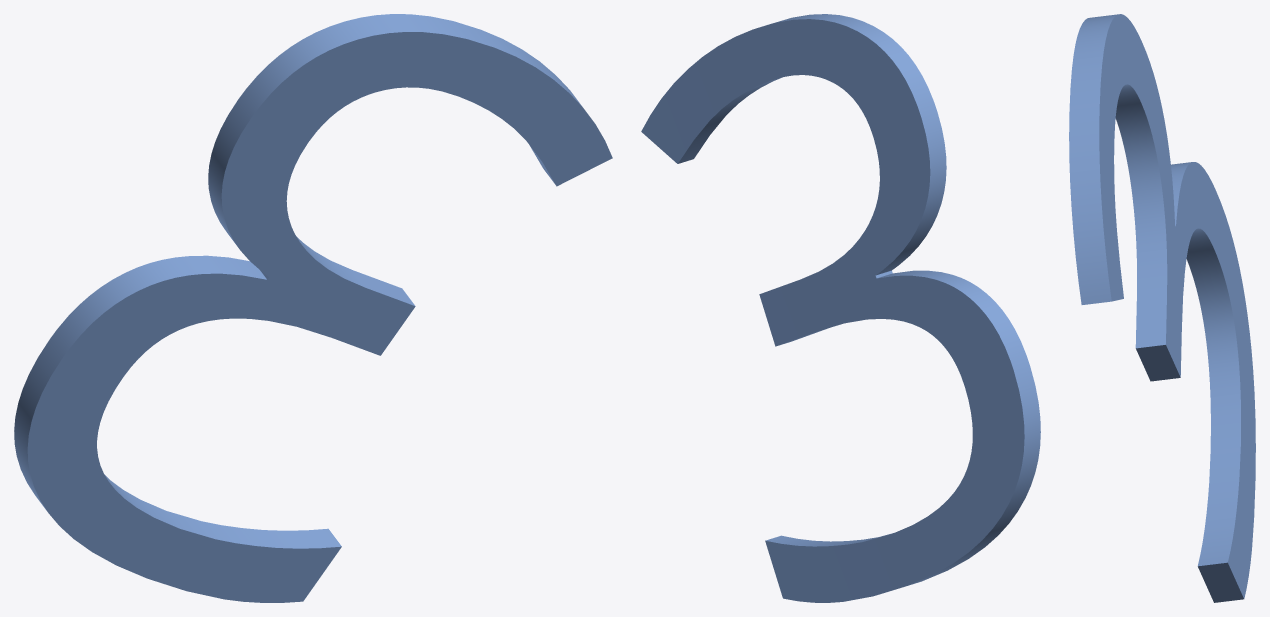
Rendered from New_Number_3.gltf.
The picture shows the model from 3 angles, left to right: view 1: azimuth 30°, elevation 25°; view 2: azimuth 150°, elevation 25°; view 3: azimuth 270°, elevation 25°; orthographic projection. The views are drawn at different scales.
Parts seen in each view (by area): view 1: Part 453; view 2: Part 453; view 3: Part 453.
Boxes of the visible parts, x1,y1,x2,y2 form: Part 453: [14, 14, 612, 602]; Part 453: [641, 14, 1040, 602]; Part 453: [1069, 14, 1255, 602].
Size of the model in its own units: 0.00459 by 0.00527 by 0.00154.
